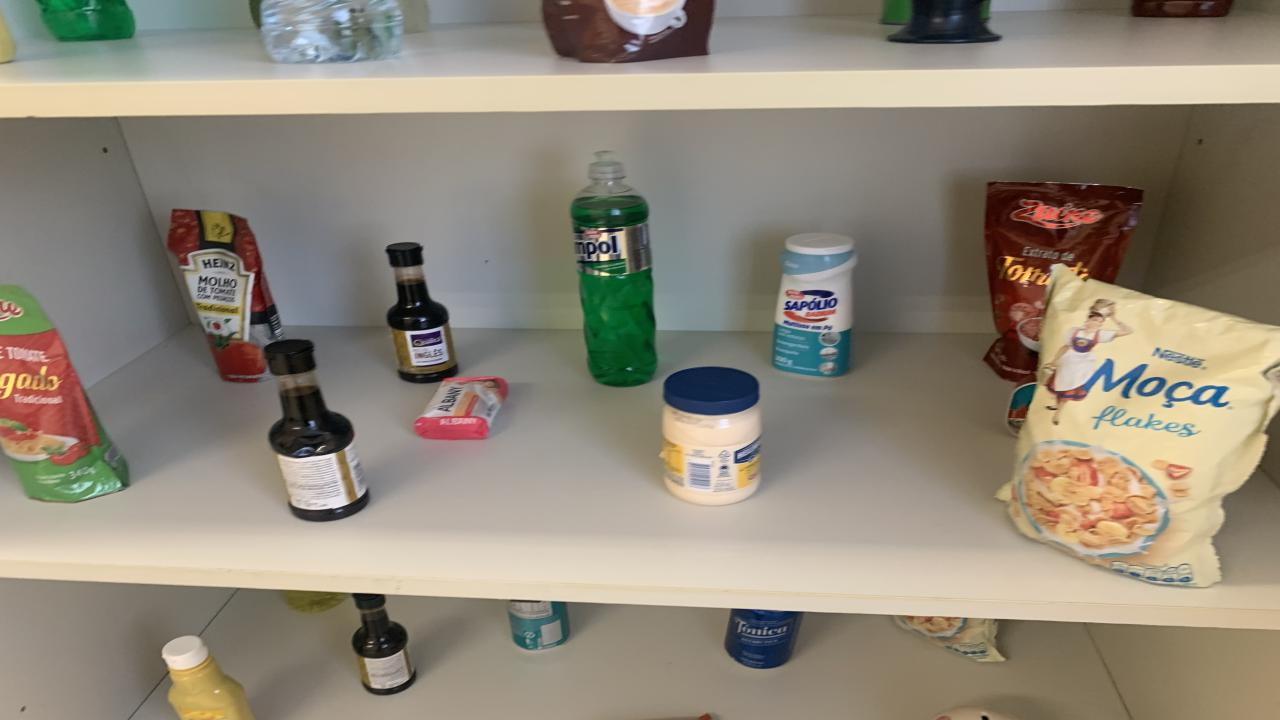Cleaner-Cleanup_Items: (772, 232, 858, 377)
Detergent-Cleanup_Items: (570, 152, 658, 386)
English_Sauce-Pantry_Items: (265, 339, 370, 521), (385, 242, 458, 382), (352, 592, 415, 696)
Flakes-Snacks: (998, 264, 1280, 587), (542, 0, 715, 62), (895, 615, 1005, 662)
Mayonnaise-Pantry_Items: (662, 368, 762, 504)
Mustard-Pantry_Items: (162, 636, 255, 720)
Soap-Cleanup_Items: (415, 377, 508, 441)
Tea-Drinks: (508, 600, 570, 651)
Tomato_Sauce-Pantry_Items: (985, 182, 1142, 382), (0, 285, 130, 502), (168, 210, 282, 382)
Tonic-Drinks: (725, 609, 802, 669)
Tuna_Can-Pantry_Items: (1005, 382, 1038, 435)
